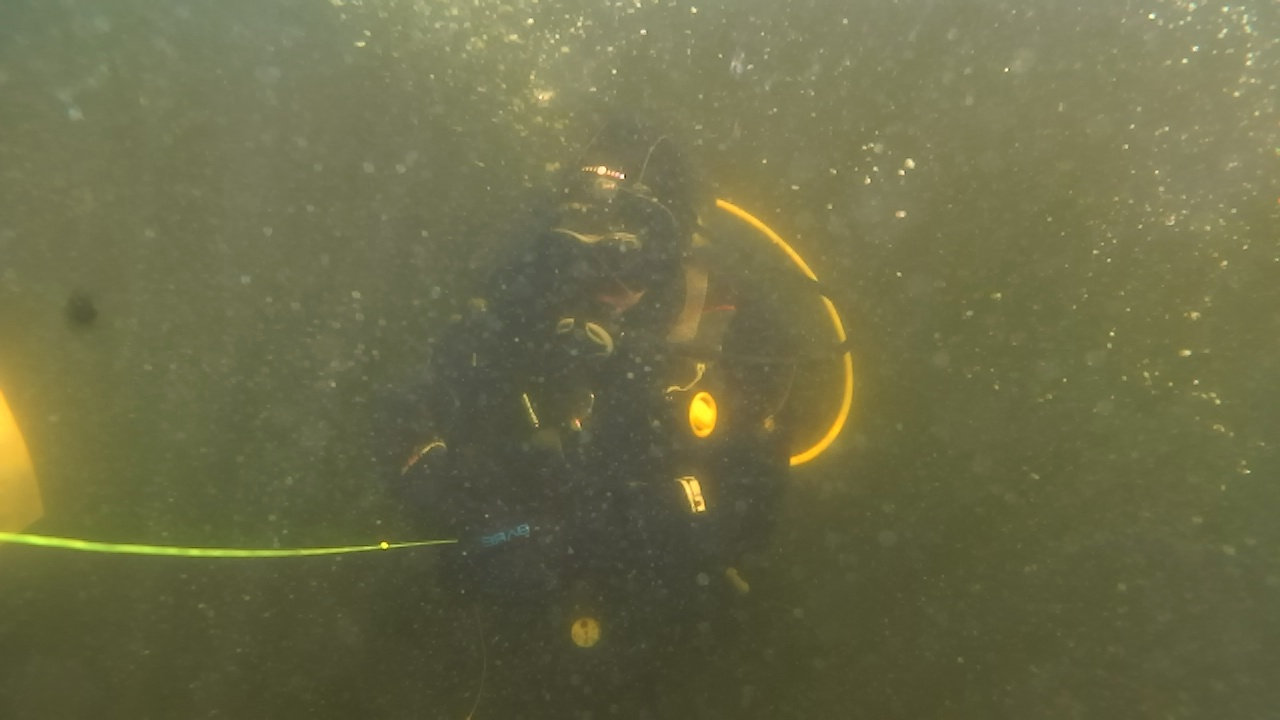Diver: (380, 152, 876, 616)
Hand: (422, 470, 586, 608)
Head: (524, 160, 696, 352)
